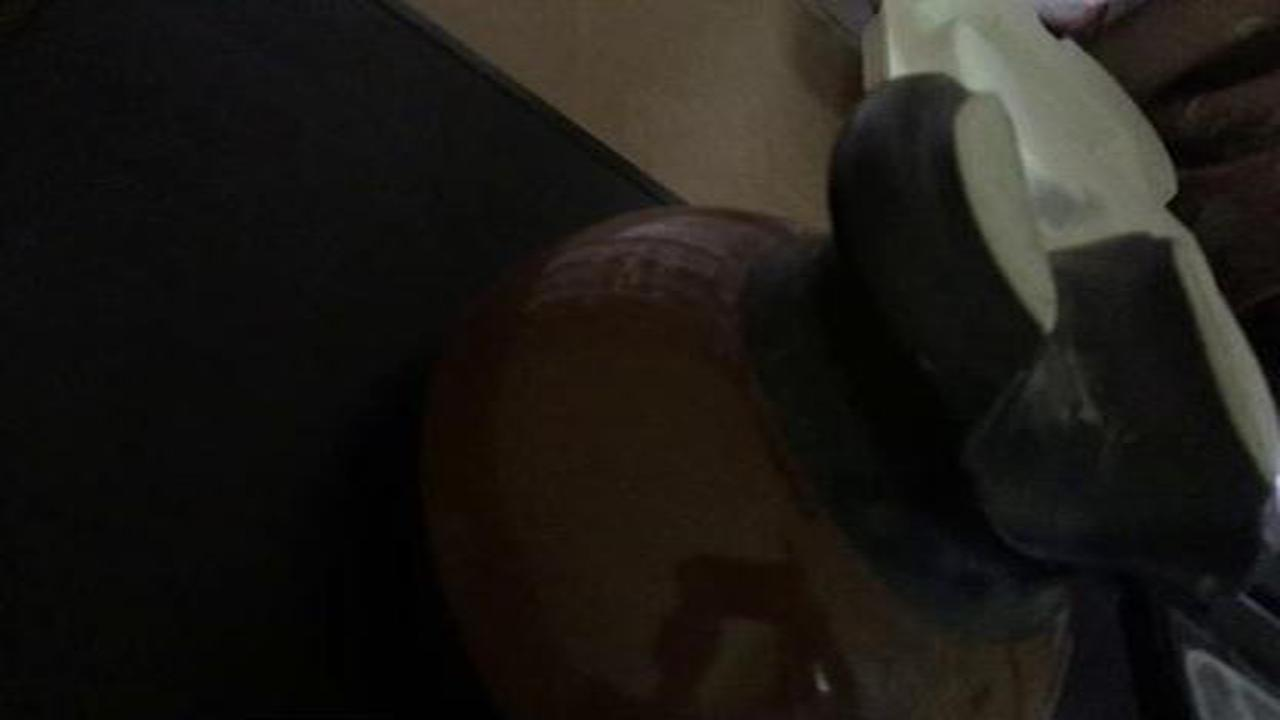insulator_pin: (401, 66, 1280, 719)
